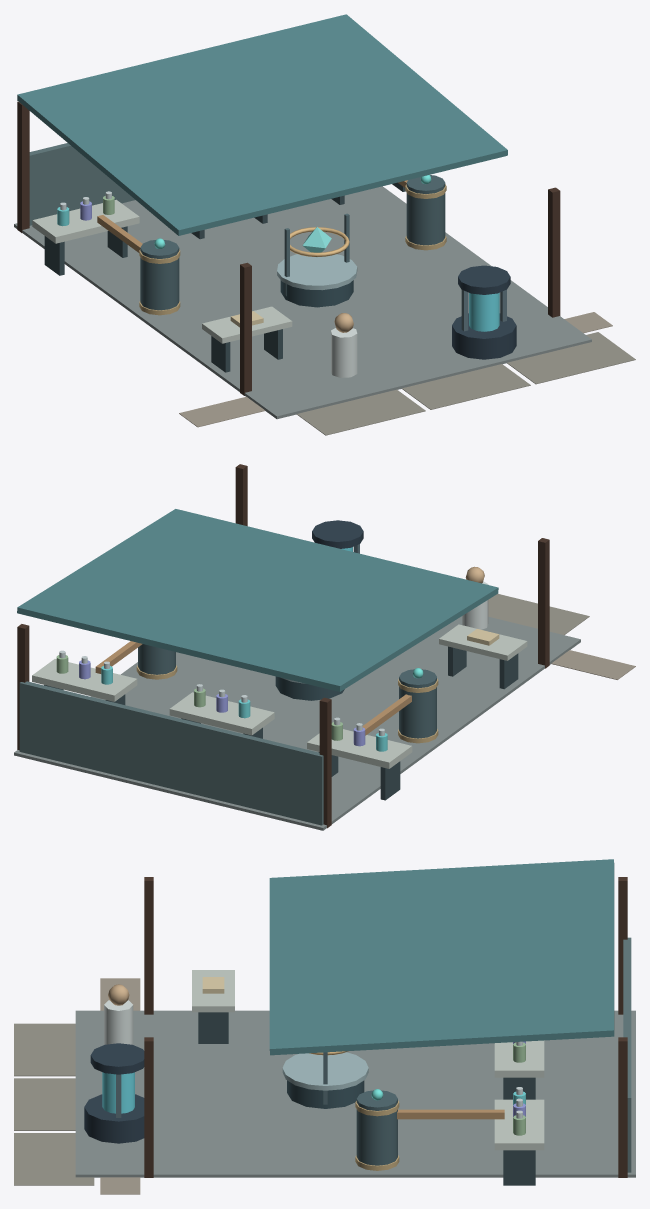
File: cell-laboratory.glb
The picture shows the model from 3 angles, top to bottom: view 1: azimuth 30°, elevation 25°; view 2: azimuth 150°, elevation 25°; view 3: azimuth 270°, elevation 25°; orthographic projection. The views are drawn at different scales.
Parts seen in each view (by area): view 1: Outdoor cell laboratory; view 2: Outdoor cell laboratory; view 3: Outdoor cell laboratory.
Part boxes in pixels (x1=…): Outdoor cell laboratory: x1=14, y1=14, x2=635, y2=435; Outdoor cell laboratory: x1=14, y1=464, x2=635, y2=830; Outdoor cell laboratory: x1=14, y1=859, x2=635, y2=1194.
Size of the model in its own units: 11.86 by 3.87 by 14.43.
